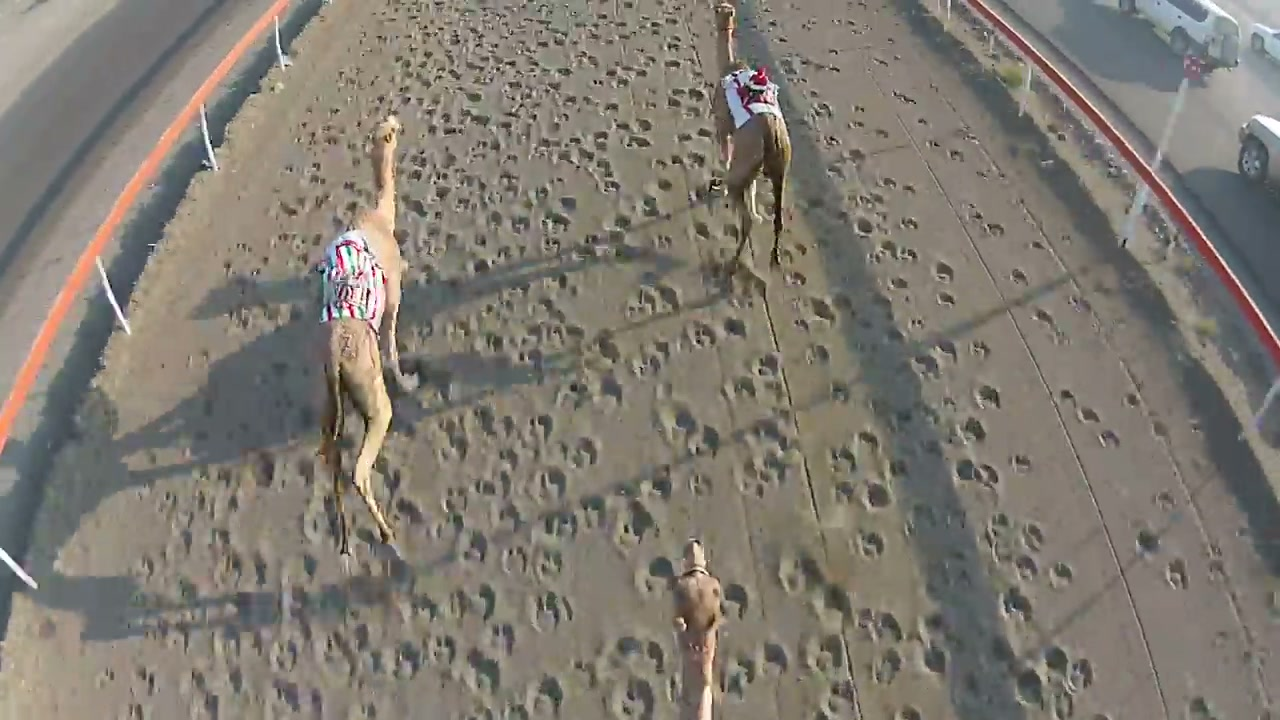animal_footprint: (115, 0, 1041, 719), (513, 468, 672, 576), (982, 511, 1074, 620), (575, 634, 673, 719), (1013, 645, 1094, 719), (775, 551, 853, 624), (735, 416, 804, 498), (719, 641, 793, 701), (857, 608, 906, 684), (655, 403, 722, 456), (983, 511, 1045, 563), (703, 253, 768, 297), (603, 632, 671, 674), (735, 452, 795, 499), (610, 497, 663, 548), (556, 372, 624, 410), (501, 544, 564, 582), (722, 367, 785, 404), (440, 583, 499, 622), (800, 633, 848, 678), (456, 649, 502, 695), (608, 676, 657, 719), (775, 553, 824, 595), (626, 283, 682, 319), (720, 654, 761, 701), (529, 590, 574, 632), (816, 679, 861, 719), (524, 674, 565, 717), (634, 556, 675, 598), (630, 340, 674, 379), (793, 297, 839, 330), (952, 458, 999, 489), (483, 622, 516, 656), (722, 375, 760, 403), (722, 582, 750, 619), (856, 528, 888, 558), (685, 321, 718, 348), (1048, 561, 1073, 588), (686, 472, 714, 496), (805, 343, 830, 365)
